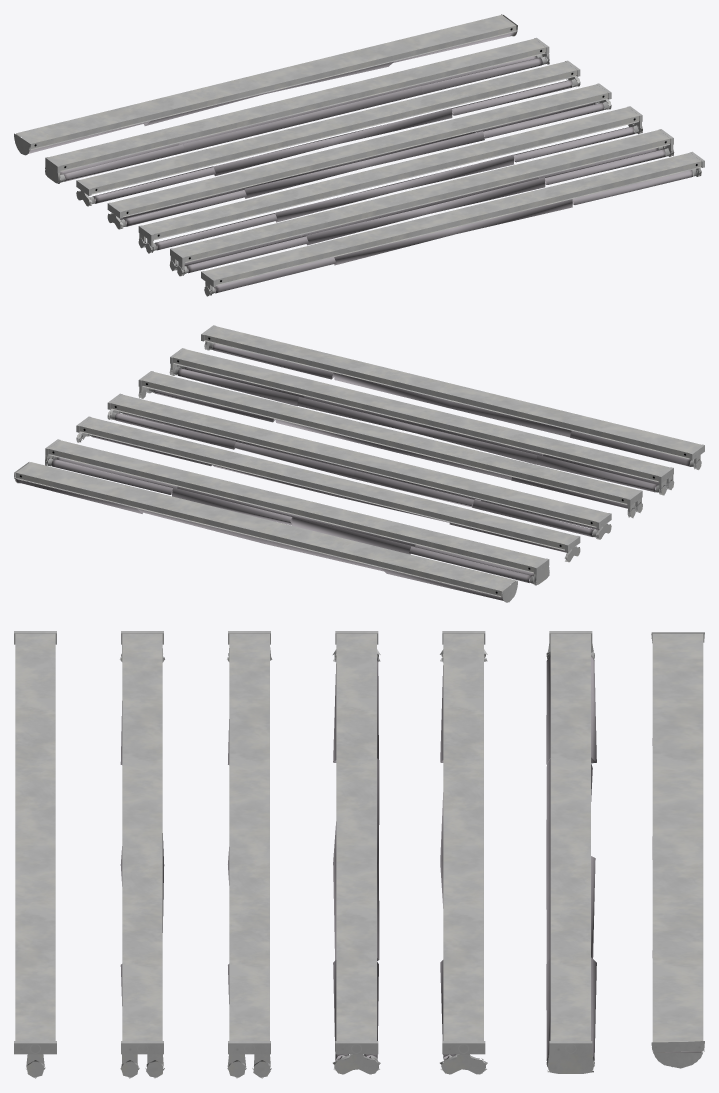
The model's file is mounted_fluorescent_lights.glb.
3 renders of one model, top to bottom at view 1: azimuth 30°, elevation 25°; view 2: azimuth 150°, elevation 25°; view 3: azimuth 270°, elevation 25°, orthographic. The views are drawn at different scales.
Visible parts, largest first — view 1: mounted_fluorescent_lights_a; view 2: mounted_fluorescent_lights_a; view 3: mounted_fluorescent_lights_a.
Part boxes in pixels (bbox=[...]): mounted_fluorescent_lights_a: bbox=[14, 14, 704, 296]; mounted_fluorescent_lights_a: bbox=[14, 325, 704, 602]; mounted_fluorescent_lights_a: bbox=[14, 631, 704, 1078].
Size of the model in its own units: 0.9122 by 0.0365 by 0.6454.
Materials: 2 (2 with a texture image).
